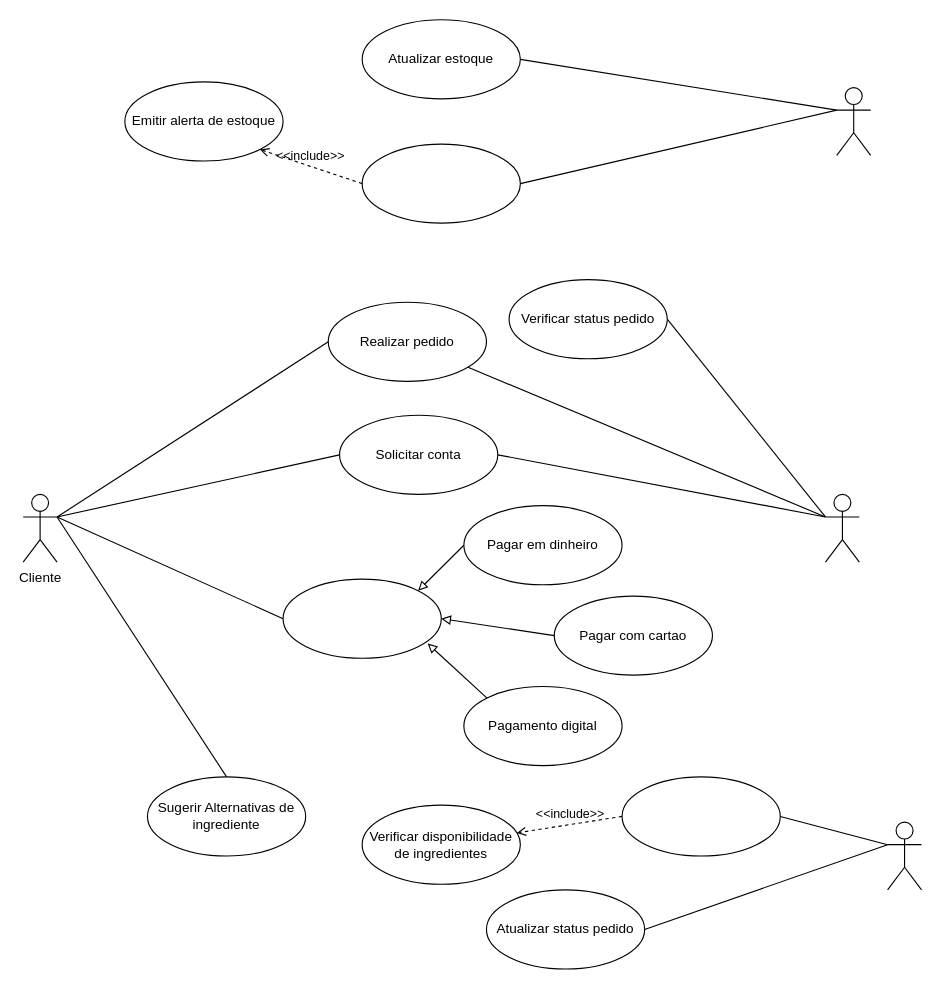
Image size: 949x989. Some labels were removed from this diagram. Here are the shapes that lost their labels. From the top down, the centre of each, then its label:
At [853,120]: "Equipe de gerencia".
At [440,183]: "Gerenciar estoque".
At [841,527]: "Garçom".
At [361,618]: "Escolher forma de pagamento".
At [700,816]: "Preparar Pedido".
At [904,855]: "Cozinha".
